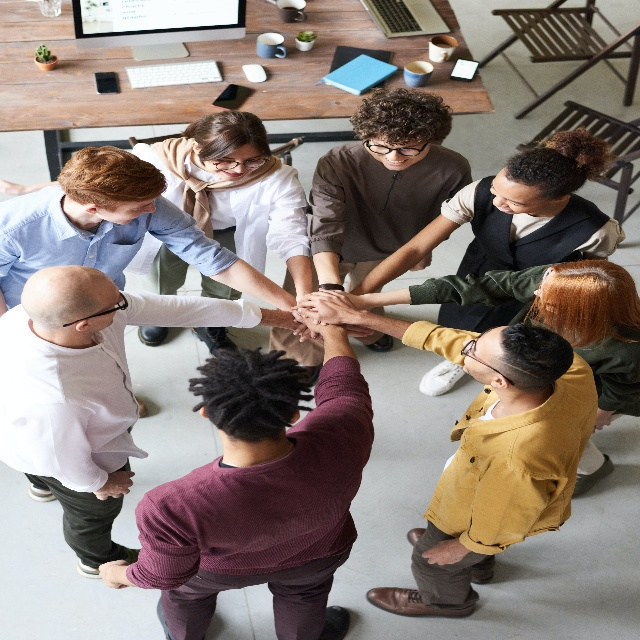Gafas: (460, 328, 515, 387), (63, 291, 129, 326), (366, 138, 427, 157), (208, 158, 269, 171)
Sin_guantes: (291, 287, 352, 327), (94, 470, 135, 501), (422, 541, 464, 565), (98, 560, 128, 590)
